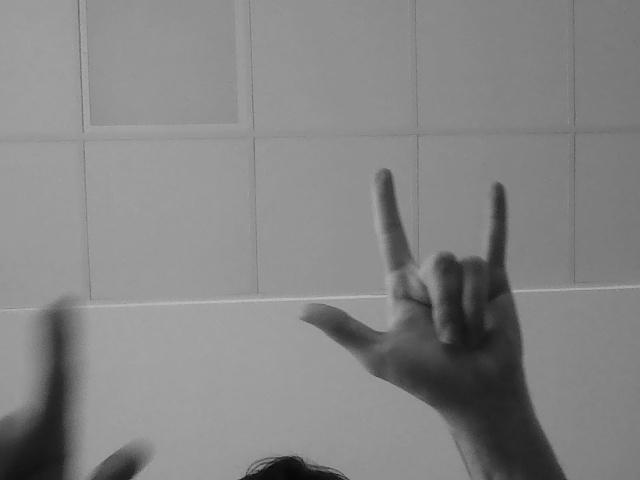I_Love_You: (294, 157, 582, 433)
